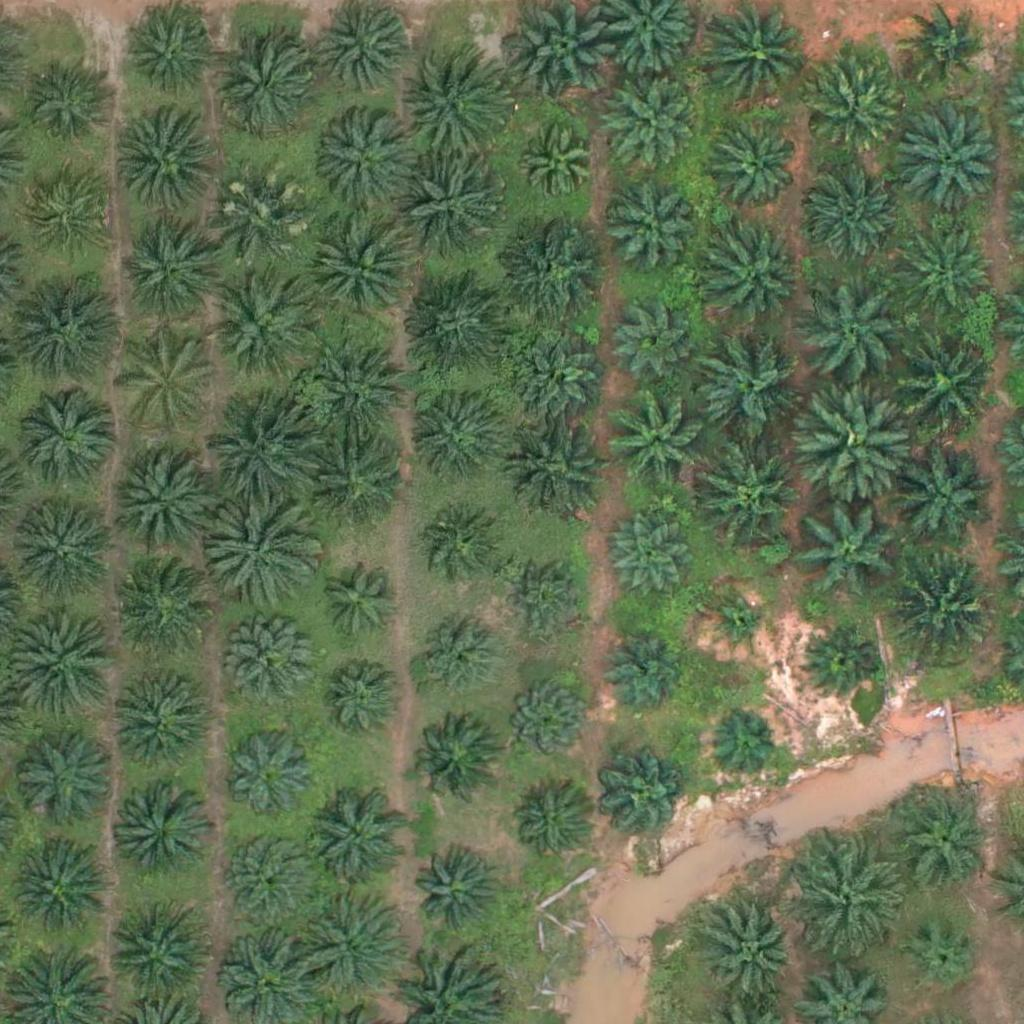Kelapa_Sawit: (698, 219, 811, 333), (790, 844, 903, 958), (7, 604, 120, 717), (493, 215, 606, 328), (804, 385, 917, 498), (13, 494, 125, 608), (206, 493, 318, 607), (206, 401, 318, 515), (803, 279, 915, 393), (17, 276, 129, 389), (116, 443, 228, 556), (400, 46, 512, 159), (397, 154, 509, 267), (405, 267, 517, 380), (697, 329, 809, 442), (696, 431, 808, 544), (799, 494, 911, 607), (892, 100, 1004, 213), (892, 325, 1004, 438), (890, 546, 1002, 659), (291, 886, 403, 999), (16, 728, 116, 829), (23, 387, 123, 488), (117, 109, 217, 210), (114, 333, 214, 434), (109, 563, 209, 664), (113, 678, 213, 779), (114, 786, 214, 887), (214, 33, 314, 134), (211, 181, 311, 282), (316, 225, 416, 326), (311, 341, 411, 442), (309, 433, 409, 534), (407, 384, 507, 485), (599, 75, 699, 176), (608, 388, 708, 489), (700, 6, 800, 107), (807, 51, 907, 152), (899, 214, 999, 315), (892, 448, 992, 549), (895, 792, 995, 893), (106, 908, 206, 1009), (10, 840, 110, 941), (116, 224, 216, 324), (222, 725, 322, 825), (212, 280, 312, 380), (312, 115, 412, 215), (308, 789, 408, 889), (509, 411, 609, 511), (808, 165, 908, 265), (703, 901, 803, 1001), (313, 656, 401, 745), (227, 832, 315, 921), (419, 510, 507, 598), (25, 169, 113, 257), (130, 12, 218, 100), (606, 175, 694, 263), (614, 296, 702, 384), (606, 516, 694, 604), (603, 755, 691, 843), (508, 782, 595, 870), (503, 675, 590, 763), (503, 554, 590, 642), (310, 563, 397, 651), (413, 614, 500, 702), (409, 714, 496, 802), (23, 61, 110, 149), (229, 626, 316, 714), (514, 121, 601, 209), (515, 338, 602, 426), (601, 622, 688, 710), (715, 128, 802, 216), (414, 851, 501, 939), (801, 623, 876, 699), (904, 917, 979, 993), (707, 706, 782, 781), (708, 595, 771, 658)
